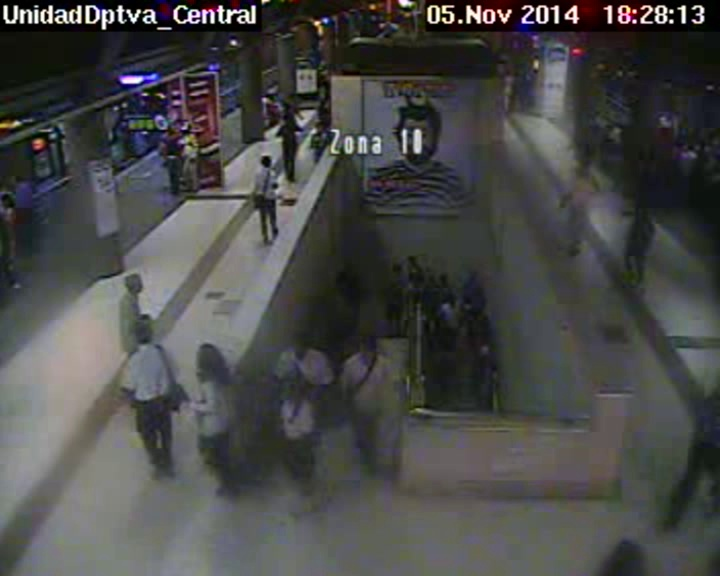person: (195, 341, 221, 372), (131, 318, 157, 341), (355, 342, 380, 363), (289, 339, 310, 361), (122, 274, 144, 294), (580, 156, 595, 172), (261, 154, 274, 170), (634, 190, 649, 203), (390, 263, 403, 277), (476, 346, 491, 357), (446, 291, 458, 304), (406, 255, 418, 267), (282, 117, 295, 128), (341, 266, 353, 277), (313, 120, 326, 130), (1, 194, 11, 206), (167, 125, 177, 136), (470, 269, 480, 280), (16, 170, 26, 180), (425, 275, 434, 285), (439, 272, 448, 282), (183, 126, 194, 134), (678, 139, 687, 148), (664, 111, 673, 120), (687, 142, 695, 150), (1, 181, 8, 190), (265, 93, 273, 100), (595, 108, 602, 116), (318, 75, 325, 82), (606, 124, 613, 131), (506, 69, 512, 76), (273, 91, 279, 97), (518, 73, 524, 79), (514, 71, 519, 77)
